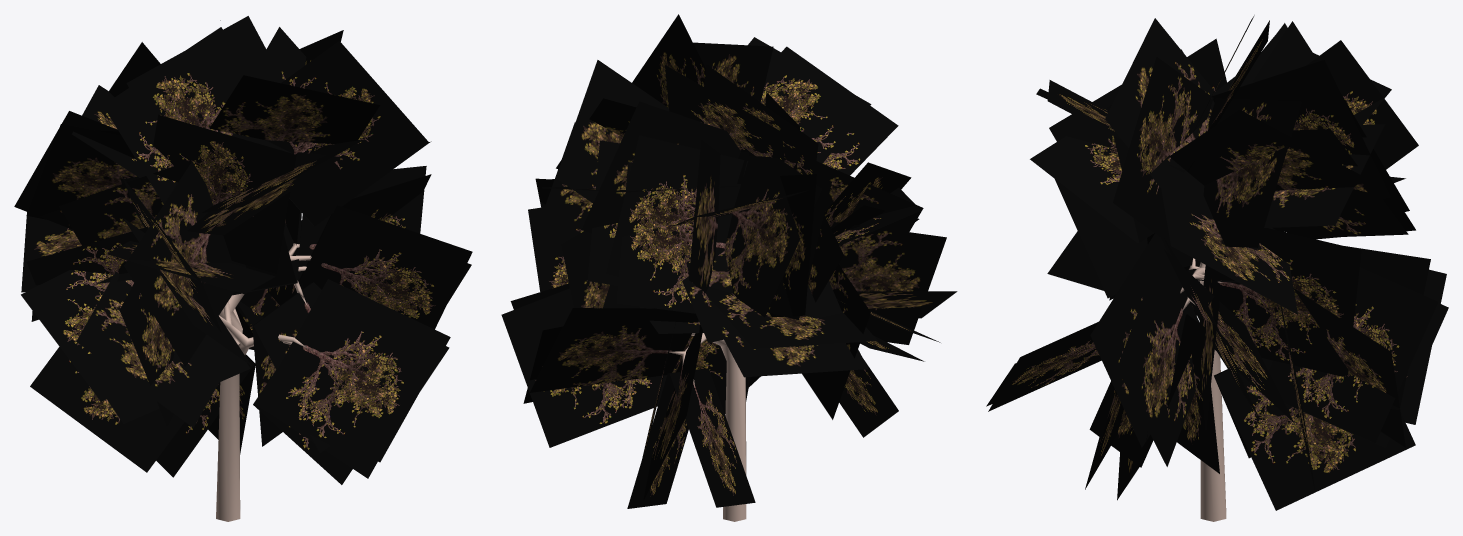
Rendered from tree25.glb.
3 renders of one model, left to right at view 1: azimuth 30°, elevation 25°; view 2: azimuth 150°, elevation 25°; view 3: azimuth 270°, elevation 25°, orthographic. The views are drawn at different scales.
Bounding box in the file's own units: 6.19 × 7.17 × 5.98.
2 materials, 1 textured.
